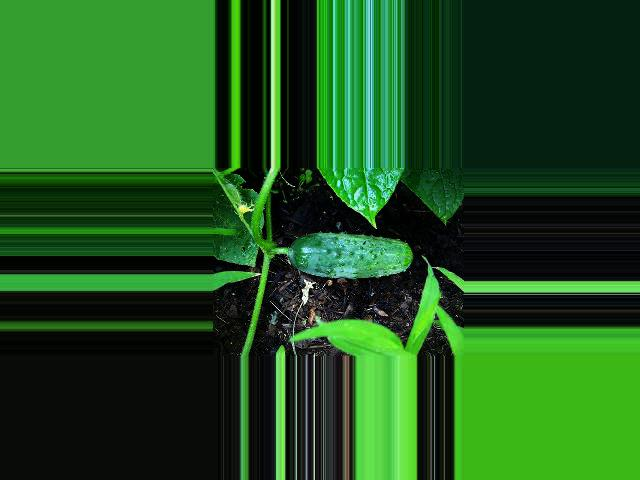cucumber: (288, 232, 414, 279)
